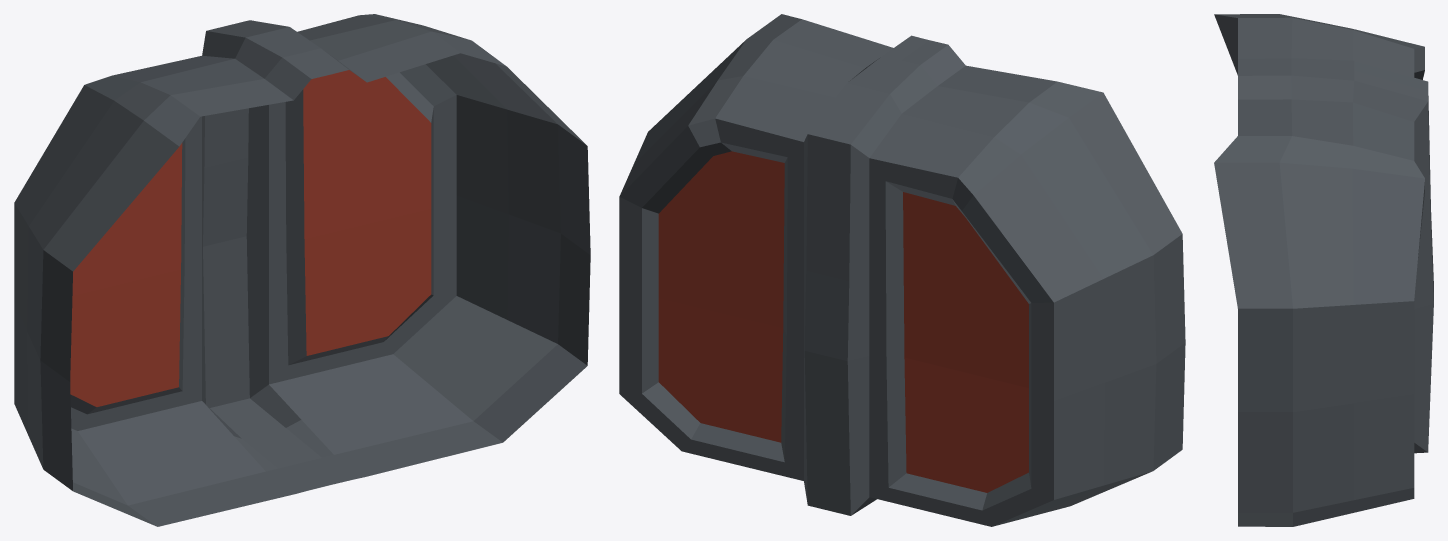
The model's file is Fighter_10_End_Cap_Red.fbx.
The picture shows the model from 3 angles, left to right: view 1: azimuth 30°, elevation 25°; view 2: azimuth 150°, elevation 25°; view 3: azimuth 270°, elevation 25°; orthographic projection. The views are drawn at different scales.
Parts seen in each view (by area): view 1: Fighter_10_End_Cap_Red; view 2: Fighter_10_End_Cap_Red; view 3: Fighter_10_End_Cap_Red.
Part boxes in pixels (box(x1,y1,x2,y2)): Fighter_10_End_Cap_Red: box(14, 14, 590, 526); Fighter_10_End_Cap_Red: box(619, 14, 1185, 526); Fighter_10_End_Cap_Red: box(1214, 14, 1433, 526).
Size of the model in its own units: 788 by 596 by 311.
Materials: 1 (1 with a texture image).
